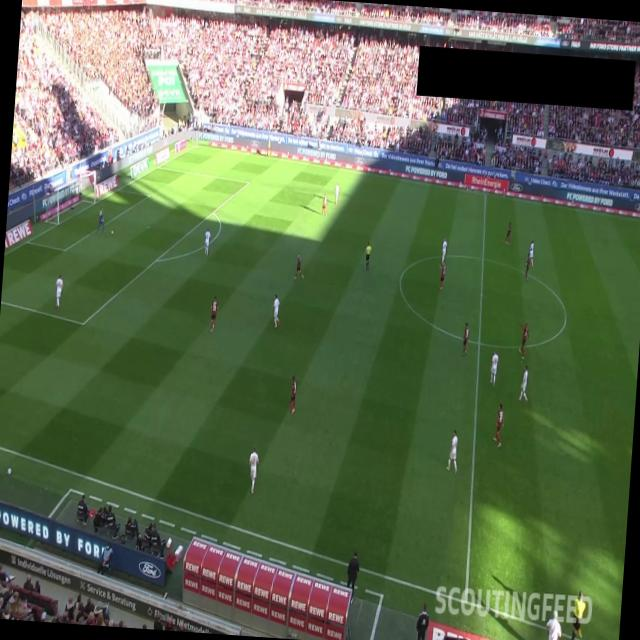ball: (110, 230, 114, 236)
goalkeeper: (96, 206, 106, 234)
player: (444, 428, 460, 474), (247, 444, 260, 494), (492, 402, 504, 448), (518, 364, 530, 402), (518, 321, 529, 360), (524, 240, 534, 282), (271, 293, 282, 329), (488, 349, 498, 387), (288, 374, 297, 416), (54, 272, 64, 308), (209, 294, 218, 333), (293, 253, 305, 280), (202, 228, 212, 256), (524, 250, 532, 282), (437, 262, 446, 290), (462, 322, 469, 356), (504, 220, 512, 246), (440, 237, 447, 265), (333, 182, 340, 205), (321, 192, 328, 215)
referee: (569, 589, 586, 640), (364, 240, 372, 270), (265, 136, 272, 158)
